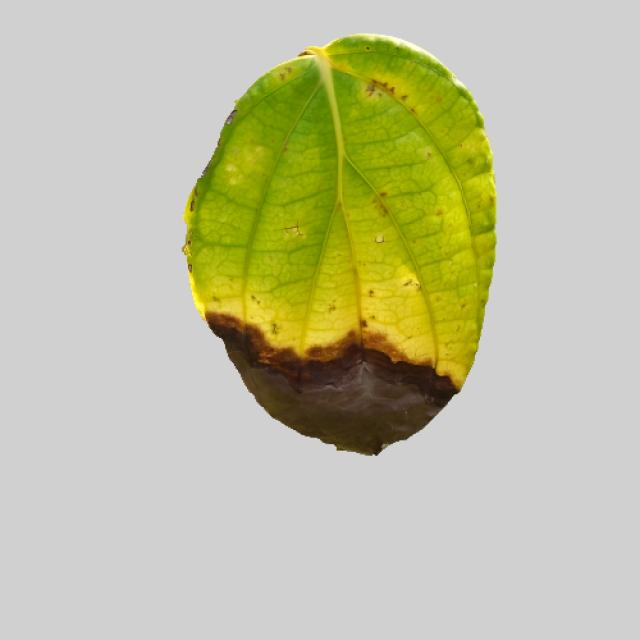leaf-blight: (161, 38, 508, 456)
